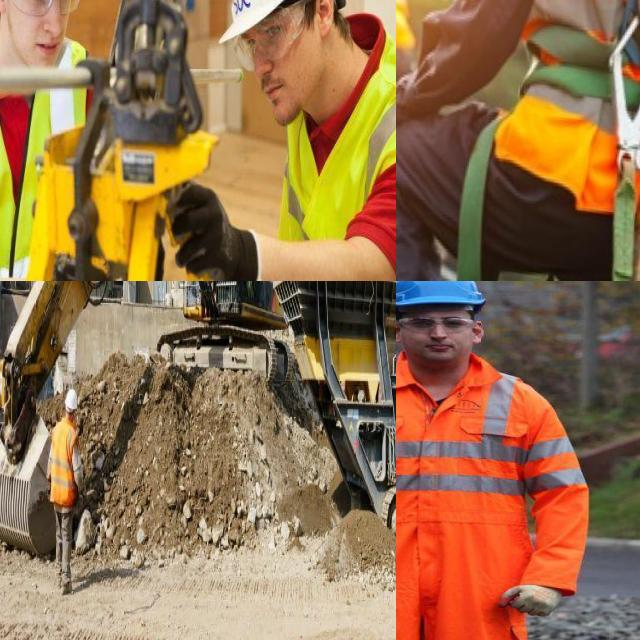Harness: (522, 0, 640, 281)
No_Ear-Protection: (312, 0, 334, 42)
face_nomask: (238, 22, 320, 122), (0, 0, 78, 71), (403, 316, 478, 365)
glasses: (226, 3, 303, 73), (396, 310, 475, 335), (2, 0, 82, 22)
hand_glove: (166, 179, 235, 281), (498, 582, 572, 628)
head_helmet: (214, 0, 345, 37), (396, 281, 489, 310), (64, 389, 78, 413)
person: (396, 281, 587, 640), (236, 0, 396, 281), (0, 0, 110, 281), (48, 391, 85, 599)
vest: (396, 361, 587, 533), (0, 41, 98, 281), (261, 111, 396, 281), (49, 414, 77, 506)
